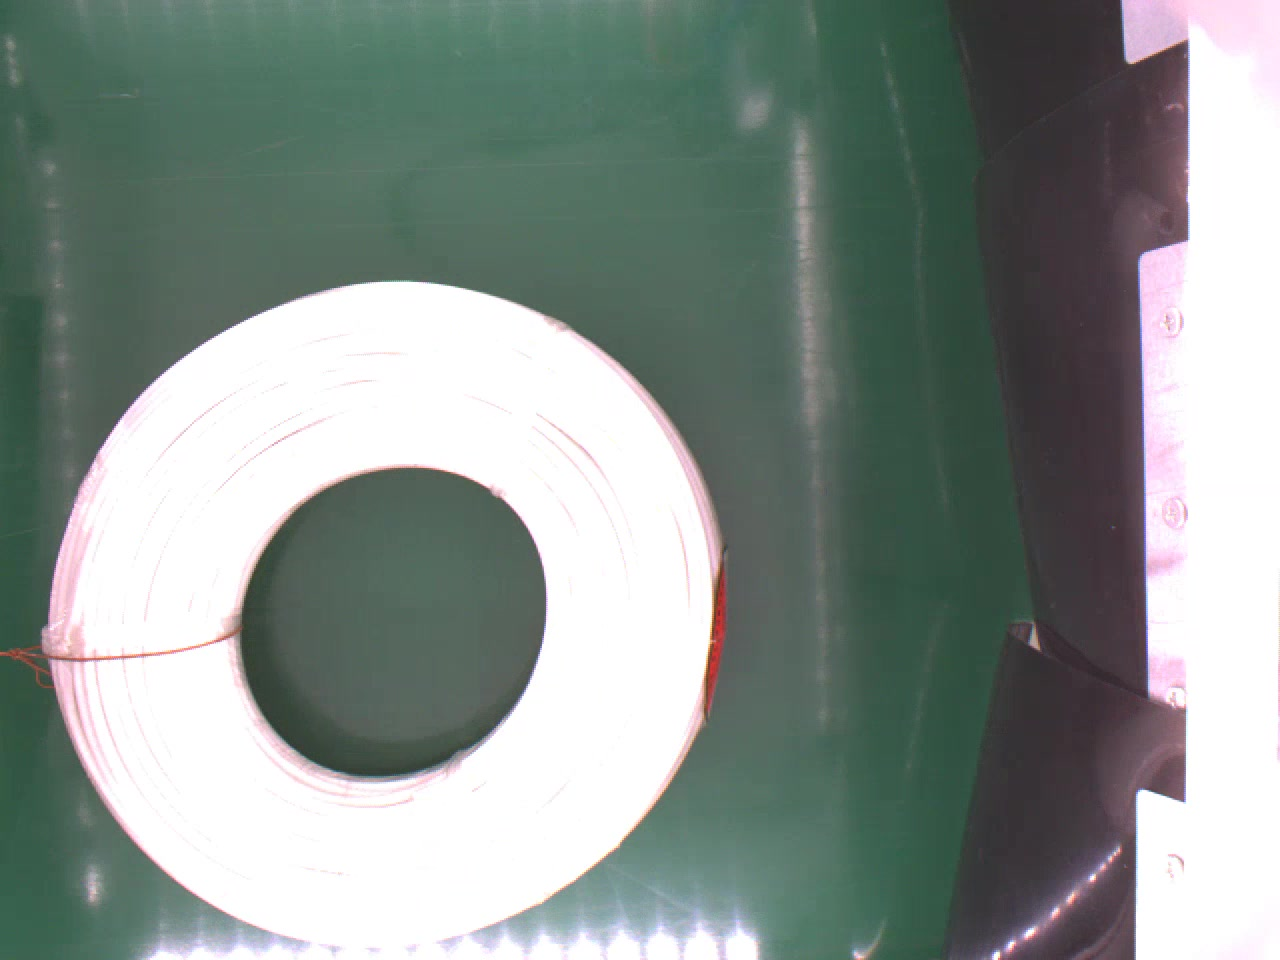white: (47, 265, 728, 938)
